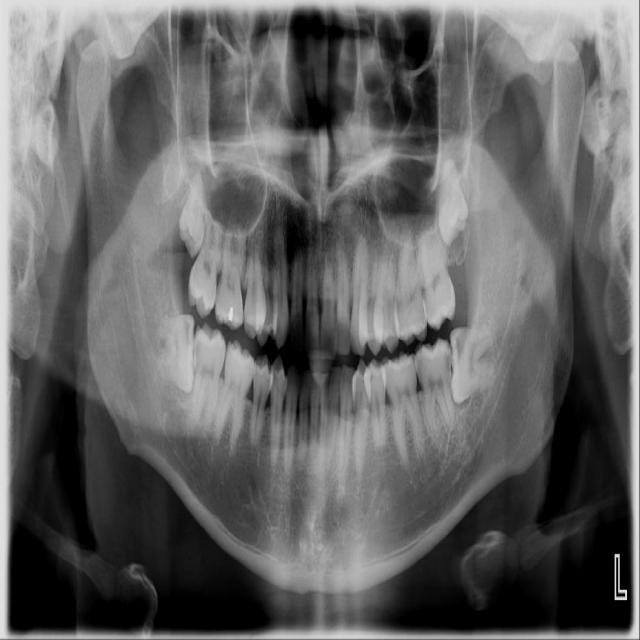Filling: (217, 304, 241, 324)
impacted tooth: (134, 313, 196, 391), (450, 320, 503, 403), (433, 145, 468, 246), (177, 167, 208, 254)
